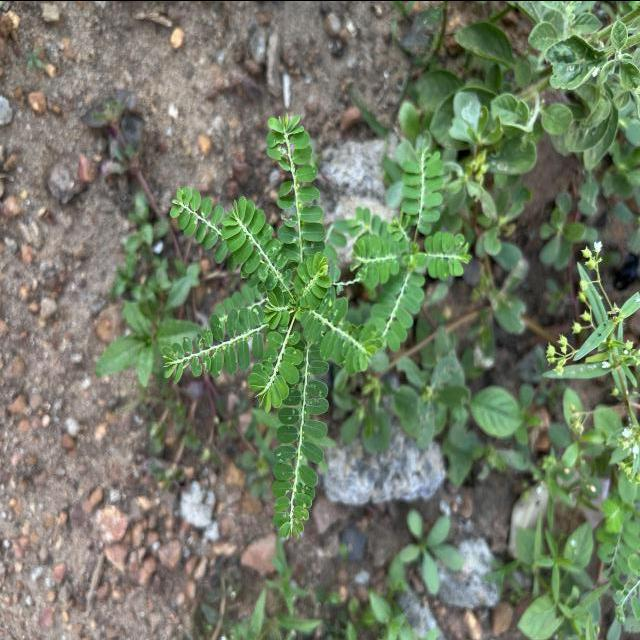Phyllanthus niruri: (270, 378, 332, 544), (160, 300, 266, 385), (262, 110, 326, 249), (220, 192, 282, 290), (307, 295, 382, 372), (246, 323, 307, 415), (168, 183, 224, 249), (290, 250, 331, 314)
